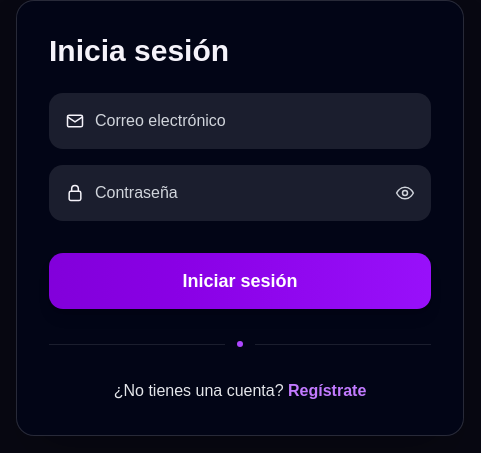
Test: LoginForm › should update password accessibility attributes
Click the button named "Mostrar contraseña" at (405, 193), box [395,183,415,203]
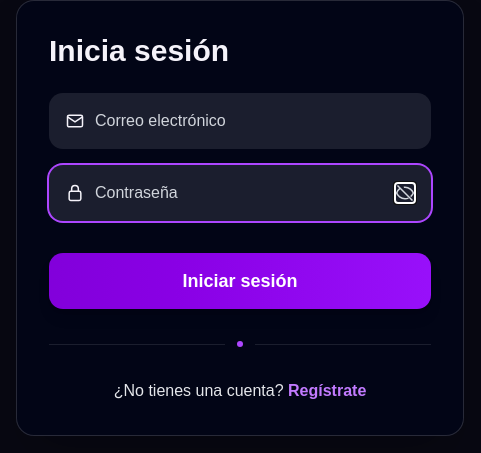
Expected: the button named "Mostrar contraseña" is pressed
Click the button named "Mostrar contraseña" at (405, 193), box [395,183,415,203]
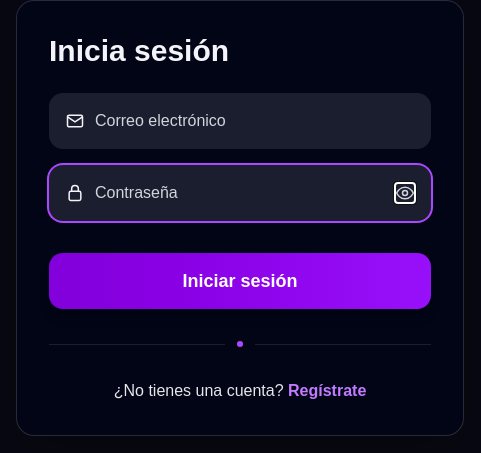
Expected: the button named "Mostrar contraseña" is not pressed, [395,183,415,203]
